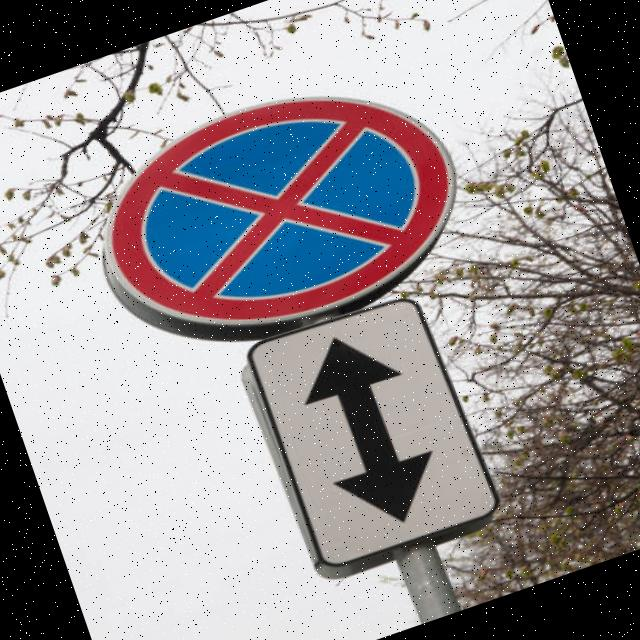no_parking: (73, 39, 500, 378)
